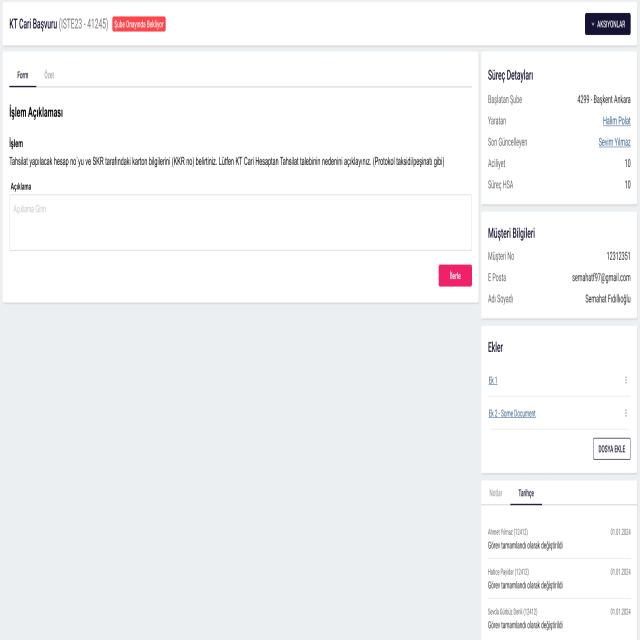QLabel: (8, 154, 446, 170), (8, 102, 64, 122), (487, 540, 563, 552), (488, 580, 564, 591), (488, 620, 563, 631), (58, 17, 108, 33), (8, 16, 57, 32), (488, 226, 535, 242), (488, 68, 533, 83), (572, 273, 632, 284), (577, 94, 631, 106), (585, 294, 631, 306), (488, 408, 537, 419), (114, 20, 164, 30), (488, 137, 527, 149), (488, 608, 538, 617), (488, 527, 528, 538), (487, 567, 529, 577), (488, 94, 523, 105), (598, 137, 632, 148), (602, 115, 632, 127), (488, 179, 514, 191), (488, 293, 513, 305), (606, 250, 630, 262), (488, 251, 514, 262), (598, 444, 626, 454), (596, 20, 626, 28), (10, 181, 31, 192), (488, 114, 507, 126), (9, 136, 23, 151), (488, 340, 503, 354), (610, 567, 631, 577), (488, 158, 506, 169), (488, 272, 507, 282), (610, 527, 631, 536), (610, 607, 631, 616), (518, 488, 534, 499), (16, 69, 28, 81), (449, 269, 461, 281), (489, 488, 503, 498), (44, 69, 54, 80), (488, 375, 498, 386), (624, 180, 631, 190), (624, 158, 630, 168)
VBtn: (584, 12, 632, 36), (593, 437, 631, 461), (438, 264, 472, 288)
VCard: (2, 51, 479, 304), (2, 2, 638, 47), (481, 479, 637, 640), (481, 51, 638, 206), (481, 325, 638, 475), (481, 211, 638, 320)
VChip: (112, 15, 166, 33)
VDivider: (487, 394, 631, 398), (489, 427, 629, 431), (488, 597, 632, 600), (488, 557, 631, 560)
VIcon: (591, 21, 595, 26), (625, 375, 627, 385), (625, 408, 627, 418)
VTab: (8, 63, 38, 91), (40, 63, 64, 91), (510, 484, 541, 502), (485, 485, 507, 502)
VTabs: (5, 58, 476, 96), (483, 482, 637, 508)
VTextarea: (9, 194, 472, 252)
